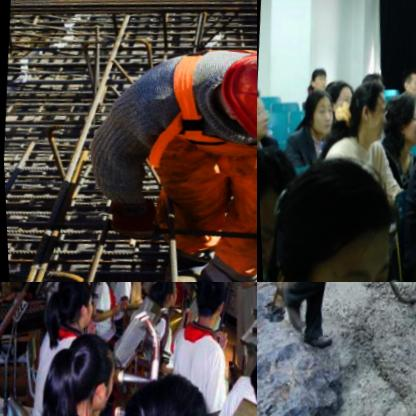head: (265, 154, 400, 282), (257, 134, 303, 281), (48, 328, 116, 416), (109, 366, 207, 416), (345, 84, 392, 149), (377, 90, 416, 159), (184, 282, 227, 328), (53, 282, 90, 333), (299, 92, 334, 137), (324, 78, 355, 125), (356, 65, 389, 109), (144, 282, 177, 315), (396, 62, 416, 104), (306, 63, 329, 93)
helmet: (209, 50, 257, 164)
